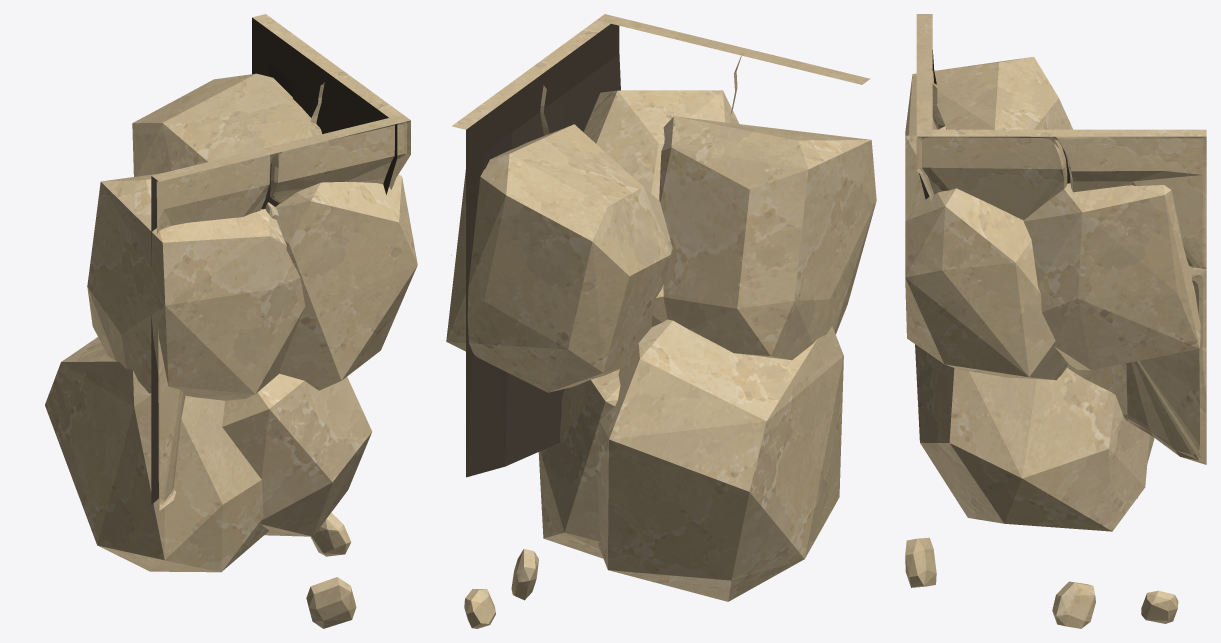
Rendered from ground_bottom_corner_09.glb.
The picture shows the model from 3 angles, left to right: view 1: azimuth 30°, elevation 25°; view 2: azimuth 150°, elevation 25°; view 3: azimuth 270°, elevation 25°; orthographic projection. The views are drawn at different scales.
Parts seen in each view (by area): view 1: GroundBottomCorner09_Body; view 2: GroundBottomCorner09_Body; view 3: GroundBottomCorner09_Body.
Boxes of the visible parts, x1,y1,x2,y2 form: GroundBottomCorner09_Body: (45,14,417,628); GroundBottomCorner09_Body: (446,14,876,628); GroundBottomCorner09_Body: (905,14,1206,628).
Bounding box in the file's own units: 1.04 × 1.88 × 1.04.
8 materials, 7 textured.
